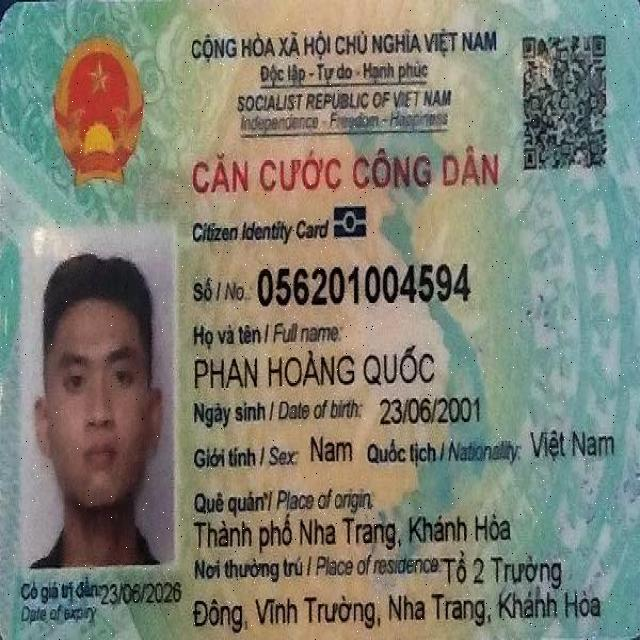current_place: (189, 586, 605, 631), (439, 549, 565, 593)
dob: (377, 394, 487, 431)
expire_date: (96, 577, 183, 609)
gender: (302, 431, 358, 471)
id: (254, 260, 478, 317)
name: (193, 347, 437, 391)
nationality: (527, 423, 618, 469)
origin_place: (195, 512, 517, 551)
qr: (516, 23, 615, 182)
